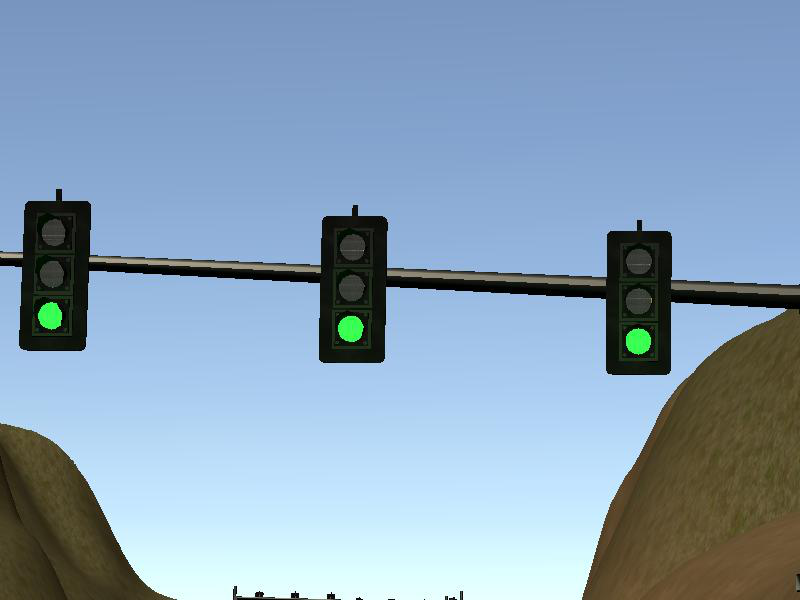green: (19, 200, 91, 353), (317, 216, 387, 366), (604, 230, 672, 375)
